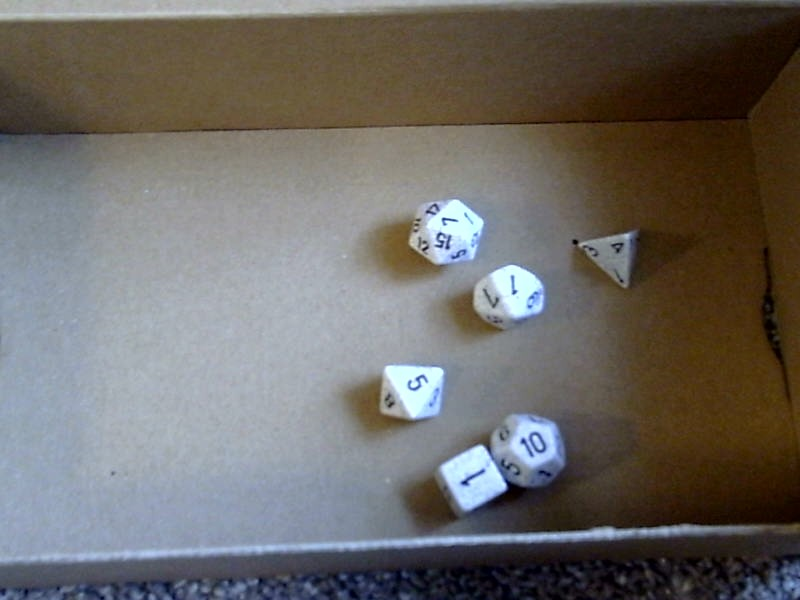d10 1: (472, 262, 543, 333)
d12 10: (491, 408, 574, 492)
d20 7: (407, 197, 484, 269)
d4 4: (572, 223, 646, 295)
d6 1: (426, 446, 503, 519)
d8 5: (373, 358, 448, 426)
